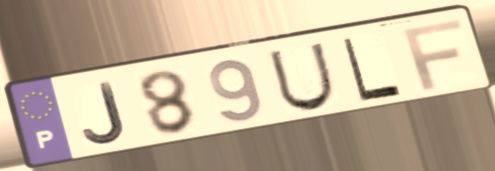8: (136, 68, 201, 138)
9: (205, 56, 267, 126)
F: (399, 17, 466, 93)
J: (80, 79, 131, 147)
L: (339, 35, 406, 104)
U: (264, 40, 338, 114)
